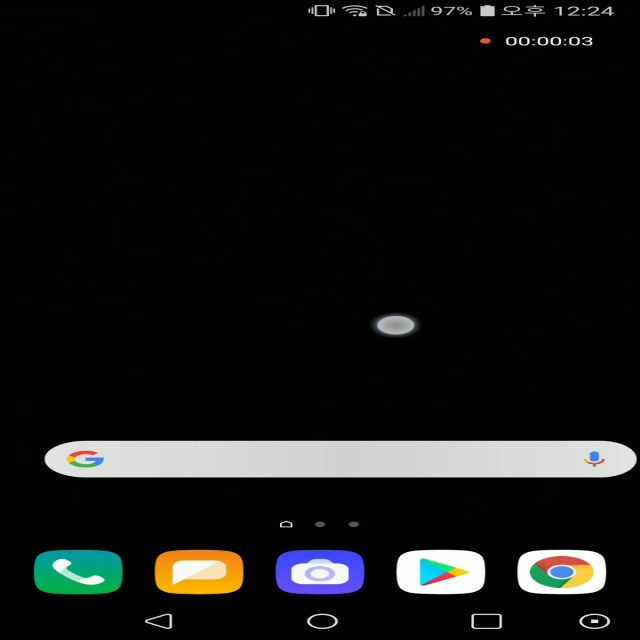Cursor: (372, 314, 416, 336)
